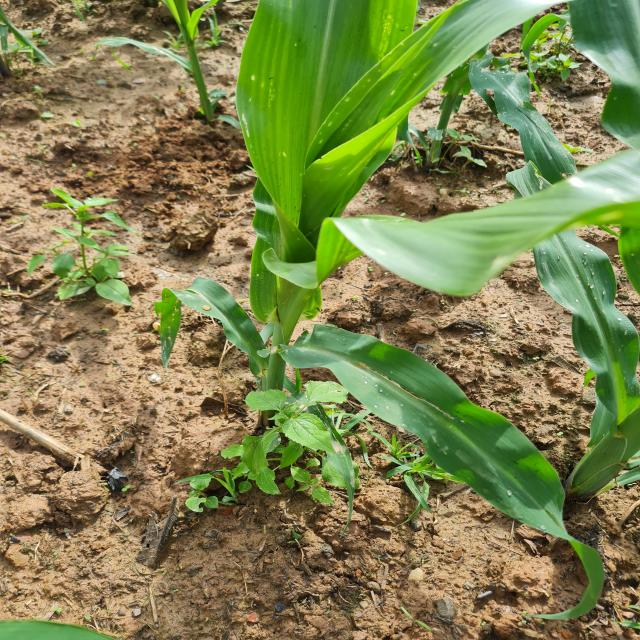maize: (177, 0, 560, 409), (115, 0, 238, 121)
weed: (10, 168, 136, 327), (238, 390, 359, 460), (378, 432, 458, 507), (178, 454, 266, 510), (413, 118, 493, 174)
